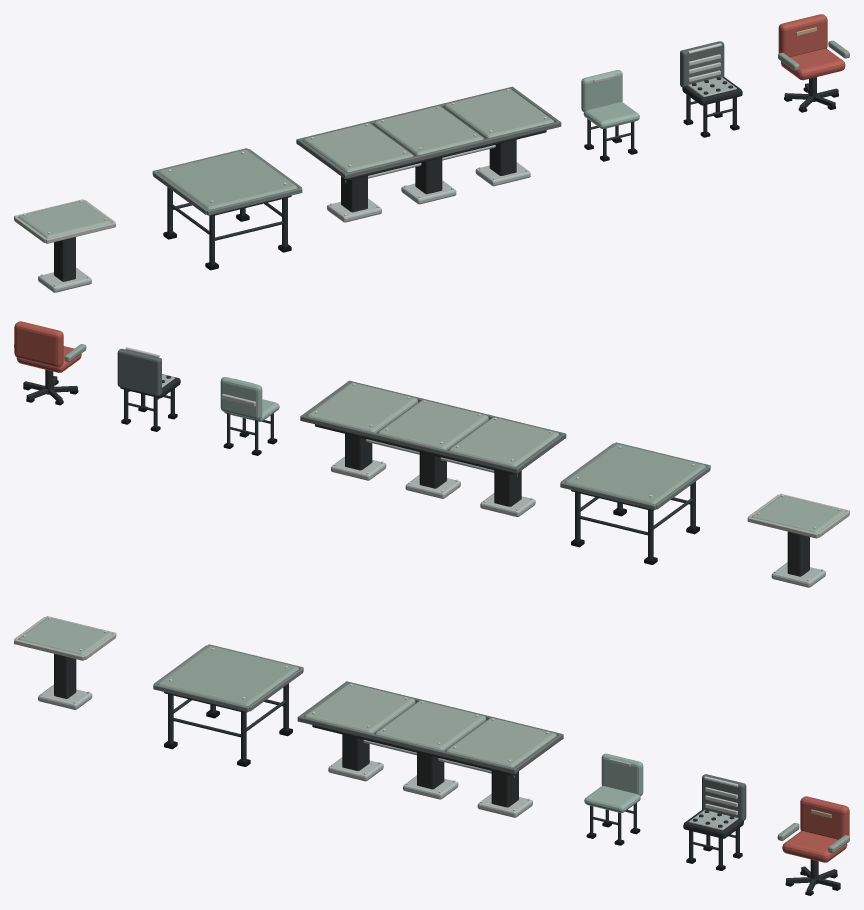
File: submarine_postapo_tables_chairs_pack.glb
The picture shows the model from 3 angles, top to bottom: view 1: azimuth 30°, elevation 25°; view 2: azimuth 150°, elevation 25°; view 3: azimuth 330°, elevation 25°; orthographic projection.
Visible parts, largest first — view 1: TABLE4_Square_Composite_Top, TABLE8_Plastic_Top_Segment_1, TABLE8_Plastic_Top_Segment_2, TABLE8_Plastic_Top_Segment_0, TABLE2_One_Piece_Molded_Plastic_Top, CHAIR_C_Padded_Polymer_Back, TABLE8_Continuous_Edge_Band_Front, CHAIR_A_Curved_Back_Panel, CHAIR_C_Padded_Polymer_Seat, CHAIR_B_Back_Iron_Frame, CHAIR_A_Molded_Plastic_Seat, TABLE2_Central_Iron_Pedestal (+10 smaller); view 2: TABLE4_Square_Composite_Top, TABLE8_Plastic_Top_Segment_2, TABLE8_Plastic_Top_Segment_1, TABLE8_Plastic_Top_Segment_0, TABLE2_One_Piece_Molded_Plastic_Top, CHAIR_C_Padded_Polymer_Back, CHAIR_B_Back_Iron_Frame, TABLE8_Continuous_Edge_Band_Back, CHAIR_A_Curved_Back_Panel, TABLE2_Central_Iron_Pedestal, TABLE8_Heavy_Pedestal_0, TABLE8_Heavy_Pedestal_1 (+7 smaller); view 3: TABLE4_Square_Composite_Top, TABLE8_Plastic_Top_Segment_0, TABLE8_Plastic_Top_Segment_1, TABLE8_Plastic_Top_Segment_2, TABLE2_One_Piece_Molded_Plastic_Top, CHAIR_C_Padded_Polymer_Back, TABLE8_Continuous_Edge_Band_Front, CHAIR_A_Curved_Back_Panel, CHAIR_C_Padded_Polymer_Seat, CHAIR_B_Back_Iron_Frame, CHAIR_A_Molded_Plastic_Seat, TABLE2_Central_Iron_Pedestal (+10 smaller).
Part boxes in pixels (<box>): TABLE4_Square_Composite_Top: <box>157,149,297,209</box>; TABLE8_Plastic_Top_Segment_1: <box>373,106,483,156</box>; TABLE8_Plastic_Top_Segment_2: <box>444,89,554,138</box>; TABLE8_Plastic_Top_Segment_0: <box>303,123,413,172</box>; TABLE2_One_Piece_Molded_Plastic_Top: <box>18,201,111,238</box>; CHAIR_C_Padded_Polymer_Back: <box>778,14,827,57</box>; TABLE8_Continuous_Edge_Band_Front: <box>343,121,561,179</box>; CHAIR_A_Curved_Back_Panel: <box>581,70,622,112</box>; CHAIR_C_Padded_Polymer_Seat: <box>781,48,845,80</box>; CHAIR_B_Back_Iron_Frame: <box>680,41,724,87</box>; CHAIR_A_Molded_Plastic_Seat: <box>583,102,639,128</box>; TABLE2_Central_Iron_Pedestal: <box>54,237,75,281</box>; TABLE4_Square_Composite_Top: <box>565,444,705,504</box>; TABLE8_Plastic_Top_Segment_2: <box>307,382,417,433</box>; TABLE8_Plastic_Top_Segment_1: <box>378,400,488,450</box>; TABLE8_Plastic_Top_Segment_0: <box>448,417,559,466</box>; TABLE2_One_Piece_Molded_Plastic_Top: <box>752,495,845,533</box>; CHAIR_C_Padded_Polymer_Back: <box>14,321,63,367</box>; CHAIR_B_Back_Iron_Frame: <box>117,348,161,395</box>; TABLE8_Continuous_Edge_Band_Back: <box>300,415,519,473</box>; CHAIR_A_Curved_Back_Panel: <box>220,377,262,419</box>; TABLE2_Central_Iron_Pedestal: <box>787,531,809,576</box>; TABLE8_Heavy_Pedestal_0: <box>494,470,521,506</box>; TABLE8_Heavy_Pedestal_1: <box>419,452,446,488</box>; TABLE4_Square_Composite_Top: <box>158,646,298,706</box>; TABLE8_Plastic_Top_Segment_0: <box>304,683,415,733</box>; TABLE8_Plastic_Top_Segment_1: <box>375,700,486,751</box>; TABLE8_Plastic_Top_Segment_2: <box>446,718,556,767</box>; TABLE2_One_Piece_Molded_Plastic_Top: <box>18,617,111,655</box>; CHAIR_C_Padded_Polymer_Back: <box>800,796,849,839</box>; TABLE8_Continuous_Edge_Band_Front: <box>297,715,516,774</box>; CHAIR_A_Curved_Back_Panel: <box>601,753,643,796</box>; CHAIR_C_Padded_Polymer_Seat: <box>782,831,847,862</box>; CHAIR_B_Back_Iron_Frame: <box>702,774,746,820</box>; CHAIR_A_Molded_Plastic_Seat: <box>584,786,640,812</box>; TABLE2_Central_Iron_Pedestal: <box>54,654,76,698</box>.
Size of the model in its own units: 10.47 by 0.935 by 1.25.
